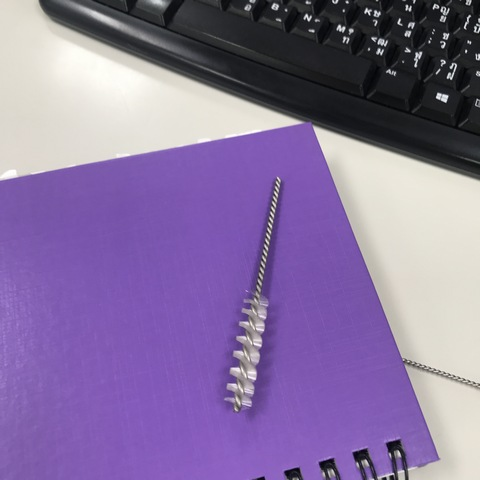Twist Brush-A: (400, 354, 480, 390)
Twist Brush-B: (223, 175, 289, 417)
